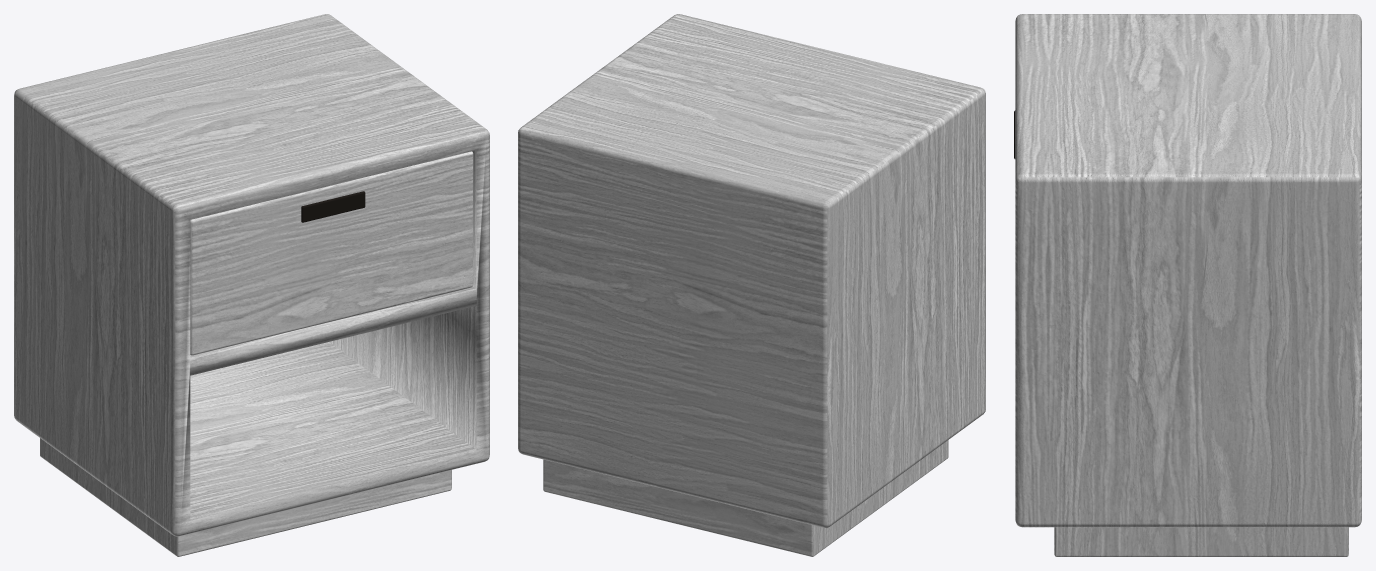
The model's file is bedside.gltf.
The picture shows the model from 3 angles, left to right: view 1: azimuth 30°, elevation 25°; view 2: azimuth 150°, elevation 25°; view 3: azimuth 270°, elevation 25°; orthographic projection. The views are drawn at different scales.
Parts seen in each view (by area): view 1: bedside; view 2: bedside; view 3: bedside.
Part boxes in pixels (<box>): bedside: <box>14,14,489,556</box>; bedside: <box>518,14,985,556</box>; bedside: <box>1014,14,1361,556</box>.
Size of the model in its own units: 0.45 by 0.5 by 0.4015.
Materials: 2 (1 with a texture image).
